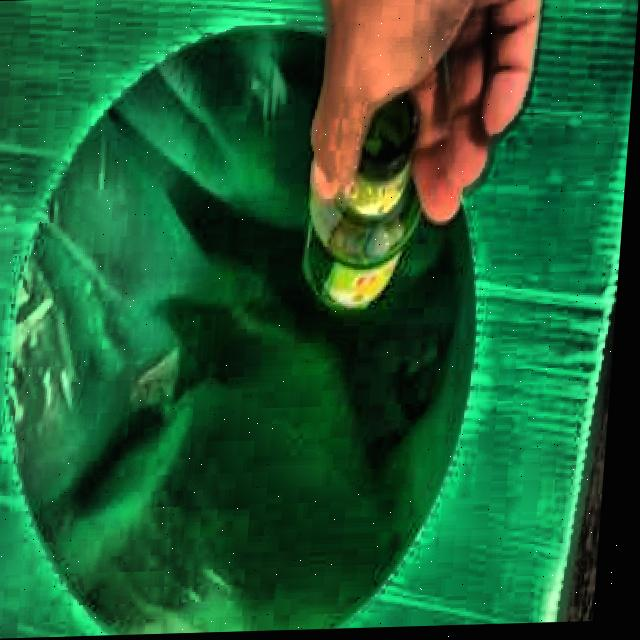glass: (310, 97, 424, 308)
